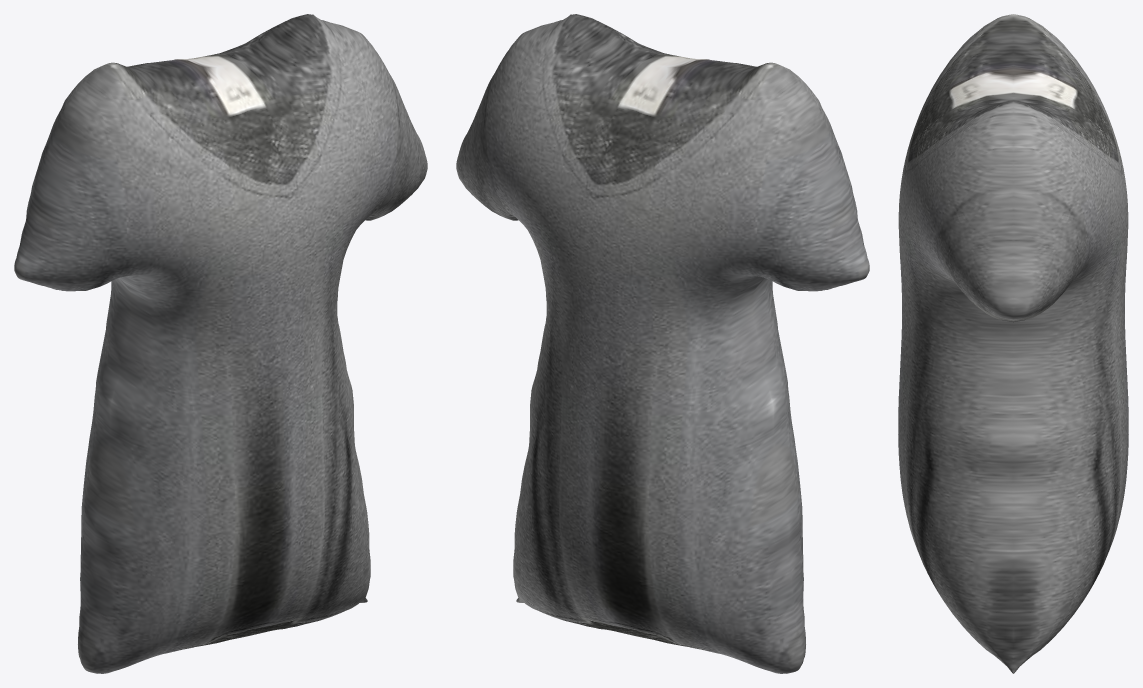
Rendered from AM221D04U-C16@10=cloth_front.glb.
The picture shows the model from 3 angles, left to right: view 1: azimuth 30°, elevation 25°; view 2: azimuth 150°, elevation 25°; view 3: azimuth 270°, elevation 25°; orthographic projection. The views are drawn at different scales.
Bounding box in the file's own units: 4.55 × 6.46 × 2.44.
Materials: 1 (1 with a texture image).
